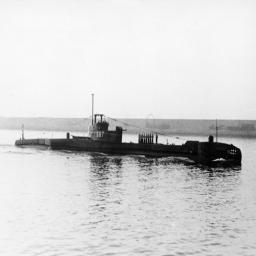submarine: (55, 114, 244, 165)
